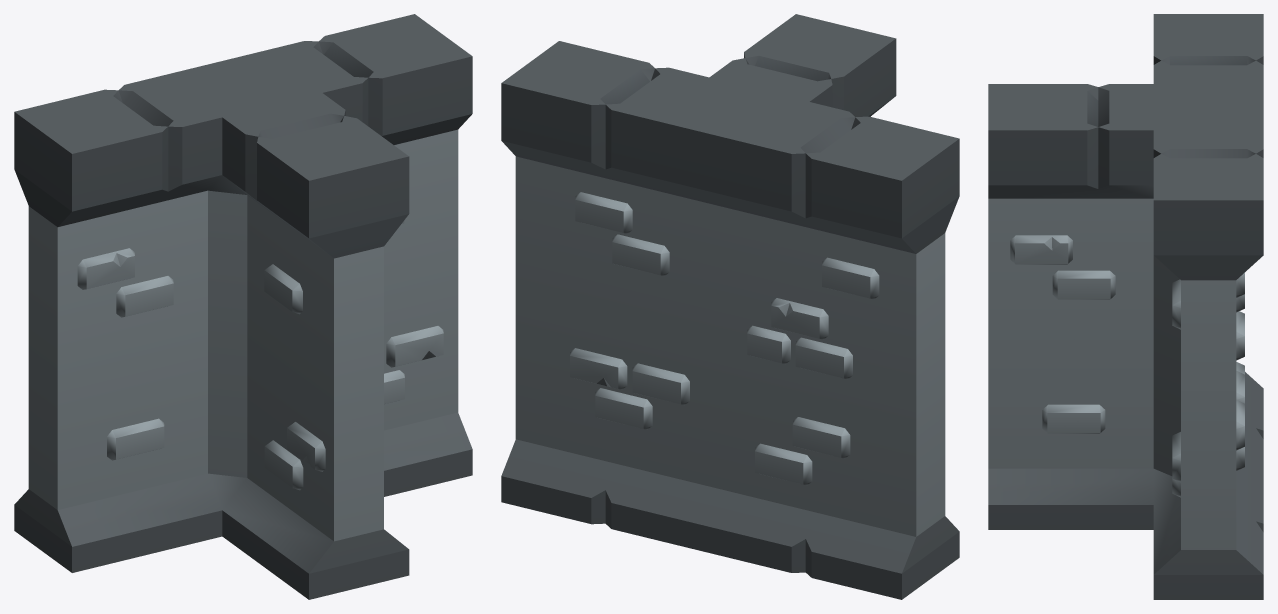
The model's file is wall_Tsplit.gltf.
The picture shows the model from 3 angles, left to right: view 1: azimuth 30°, elevation 25°; view 2: azimuth 150°, elevation 25°; view 3: azimuth 270°, elevation 25°; orthographic projection. The views are drawn at different scales.
Parts seen in each view (by area): view 1: wall_Tsplit; view 2: wall_Tsplit; view 3: wall_Tsplit.
Boxes of the visible parts, left/top/right/bottom form: wall_Tsplit: left=14, top=14, right=472, bottom=599; wall_Tsplit: left=501, top=14, right=959, bottom=599; wall_Tsplit: left=988, top=14, right=1263, bottom=599.
Bounding box in the file's own units: 4 × 4 × 2.5.
1 material, 1 textured.
